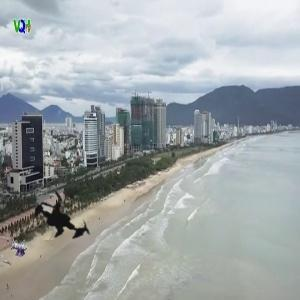drone: (20, 172, 110, 262)
